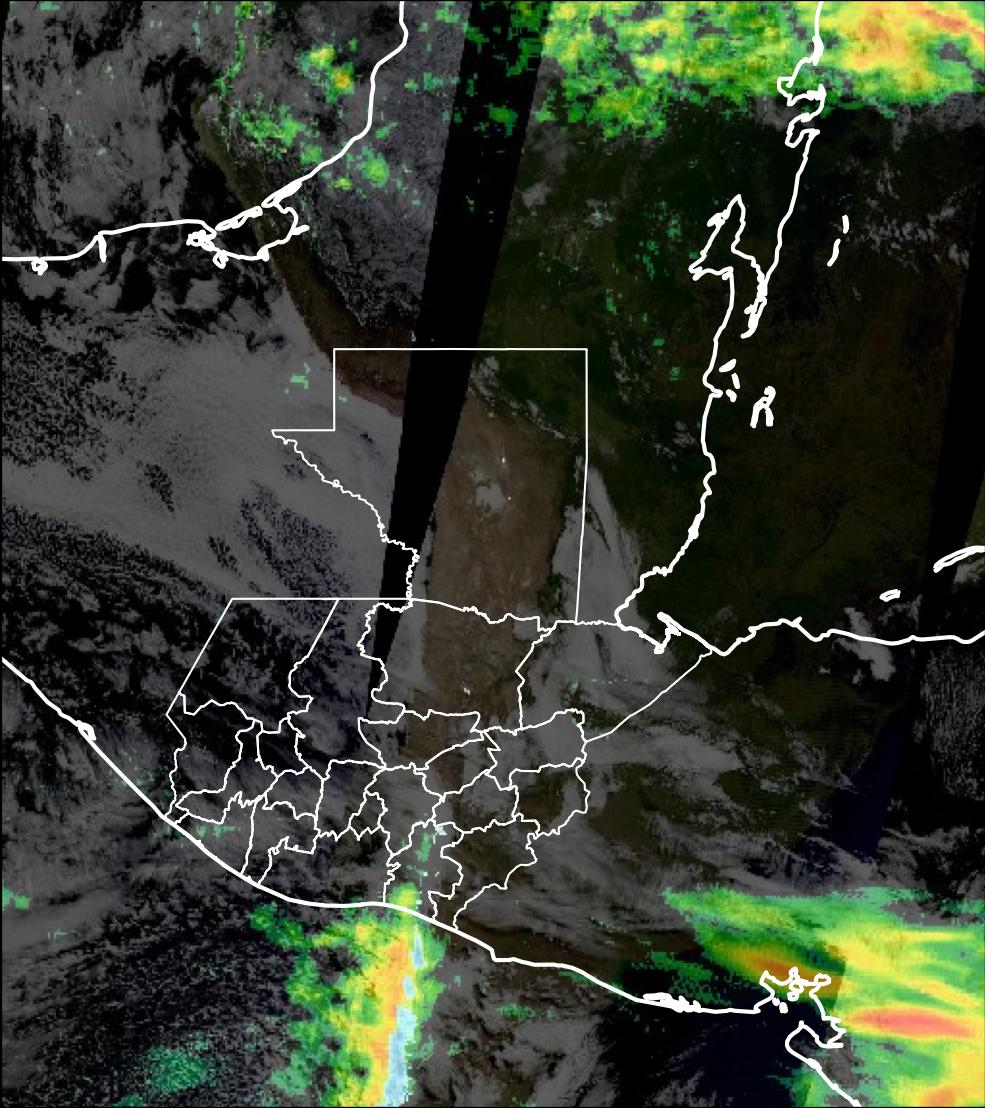precipitacion: (847, 7, 985, 76), (836, 997, 982, 1054)
